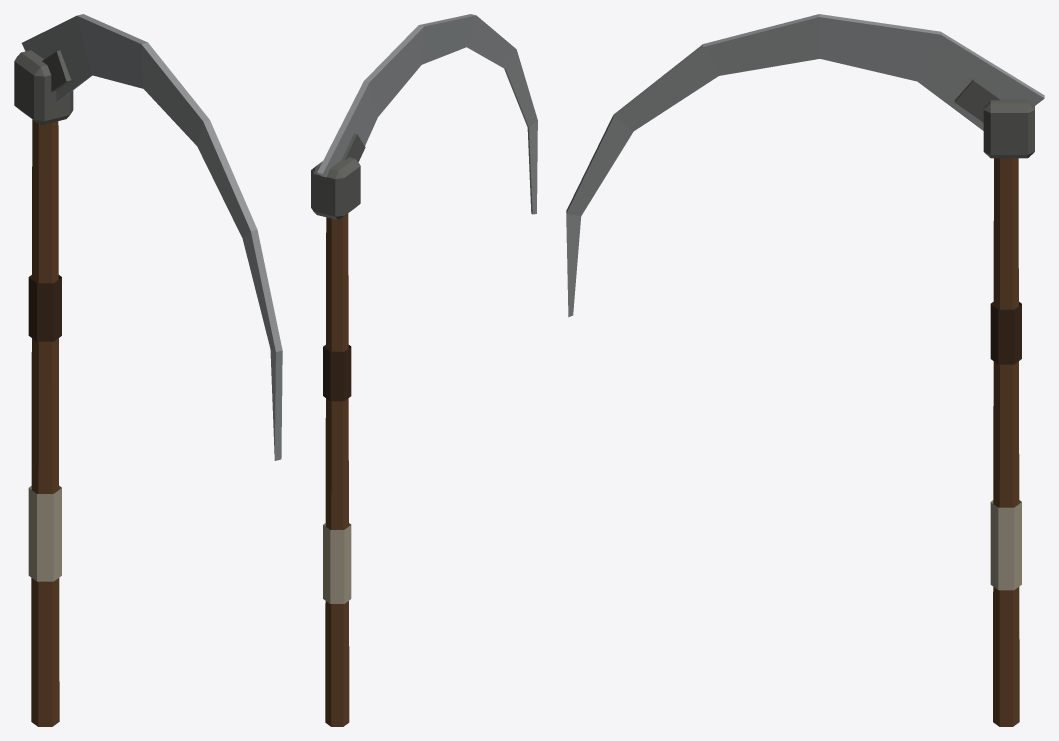
Rendered from foice.glb.
3 views of the same model, side by side, from view 1: azimuth 30°, elevation 25°; view 2: azimuth 150°, elevation 25°; view 3: azimuth 270°, elevation 25° (orthographic). The views are drawn at different scales.
Parts seen in each view (by area): view 1: foice.001; view 2: foice.001; view 3: foice.001.
Part boxes in pixels (x1=…): foice.001: x1=14, y1=14, x2=282, y2=726; foice.001: x1=311, y1=14, x2=537, y2=726; foice.001: x1=566, y1=14, x2=1044, y2=726.
Size of the model in its own units: 0.07 by 1.28 by 0.7881.
